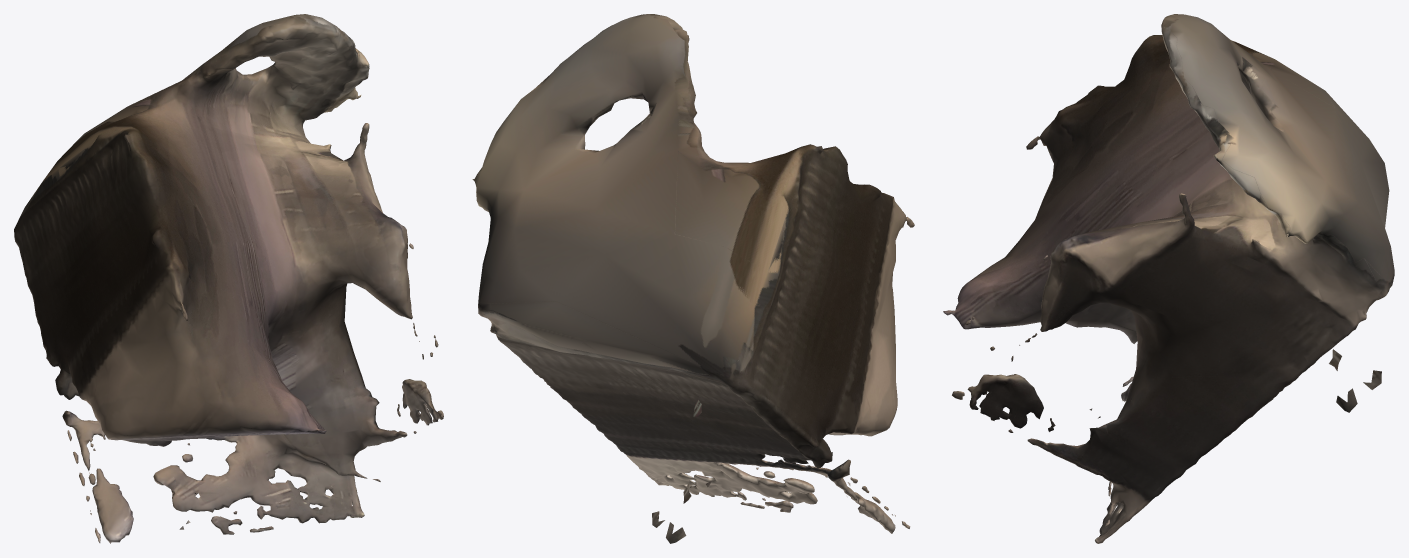
Rendered from Chapter_3.glb.
3 renders of one model, left to right at view 1: azimuth 30°, elevation 25°; view 2: azimuth 150°, elevation 25°; view 3: azimuth 270°, elevation 25°, orthographic. The views are drawn at different scales.
Visible parts, largest first — view 1: Chapter_3; view 2: Chapter_3; view 3: Chapter_3.
Boxes of the visible parts, x1,y1,x2,y2 form: Chapter_3: (14, 14, 443, 543); Chapter_3: (472, 14, 914, 543); Chapter_3: (943, 14, 1394, 543).
Bounding box in the file's own units: 0.595 × 0.8025 × 0.647.
Materials: 1 (1 with a texture image).
